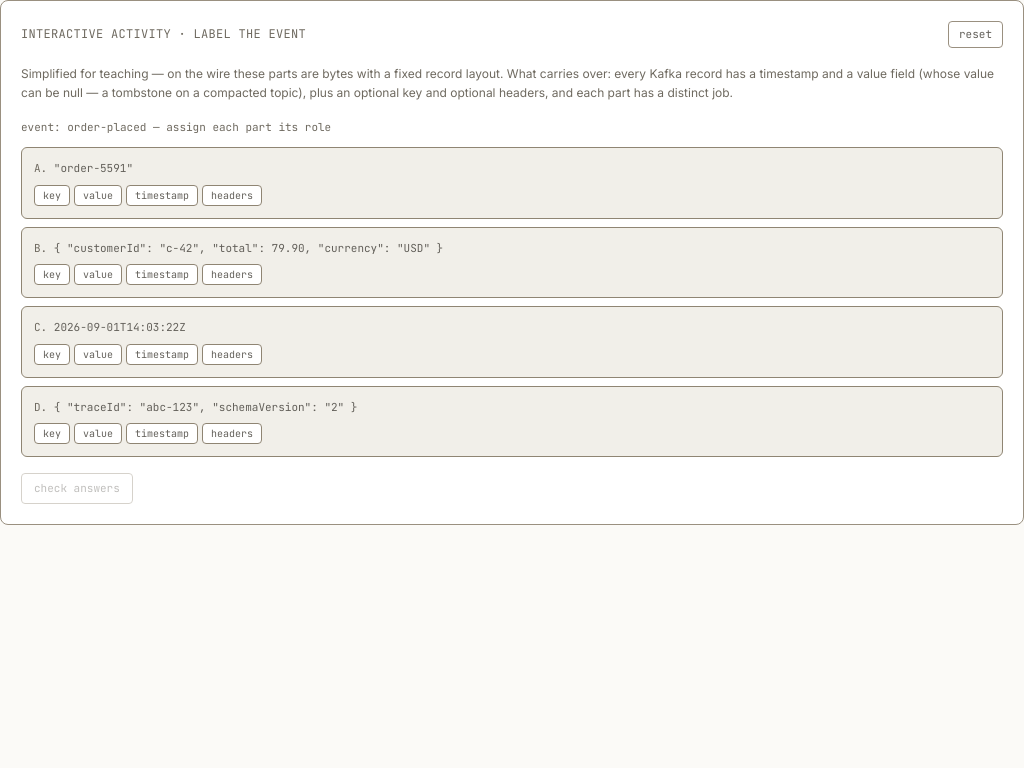
Test case: LabelTheEventDemo › scores a fully correct labelling
Click the button "key" below "\"order-5591\"".
click(52, 195)  # box [34, 184, 70, 206]
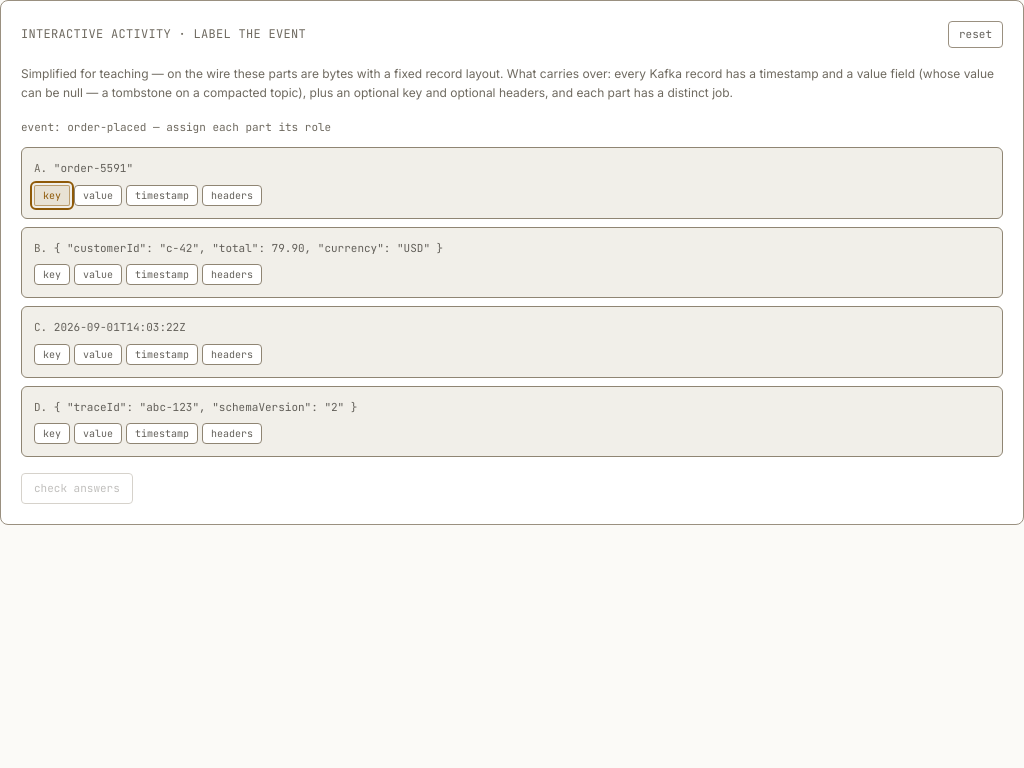
Click the 2nd button "value".
click(98, 274)  # box [74, 264, 122, 285]
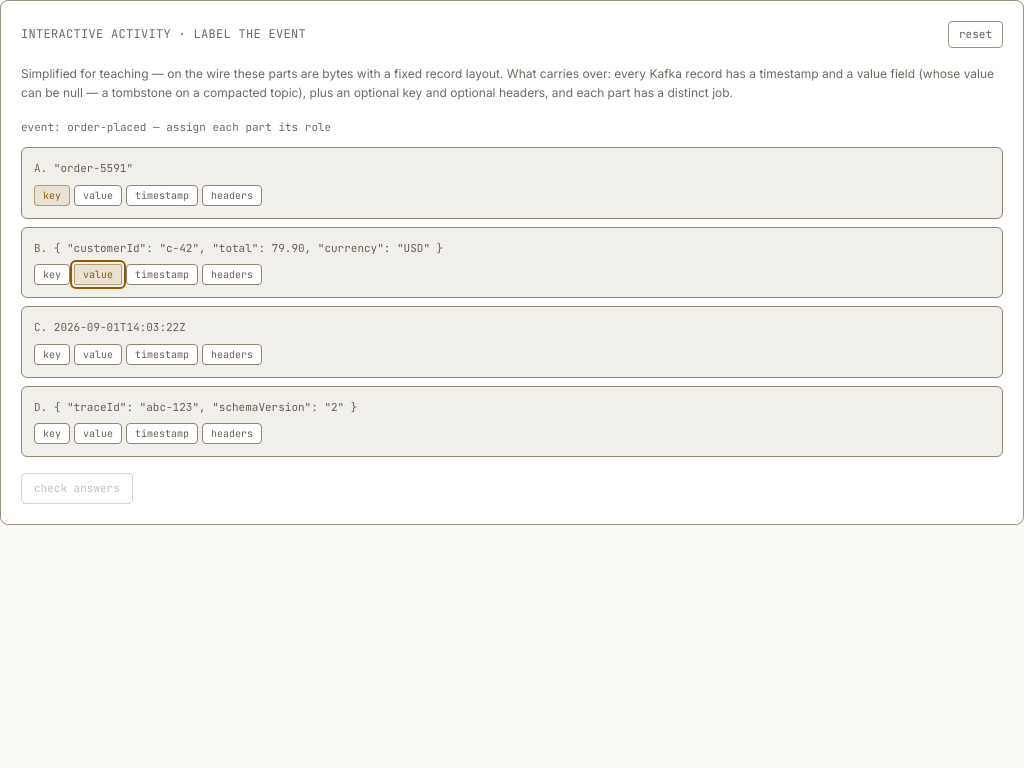
Click the button "timestamp" below "2026-09-01T14:03:22Z".
click(162, 354)  # box [126, 344, 198, 364]
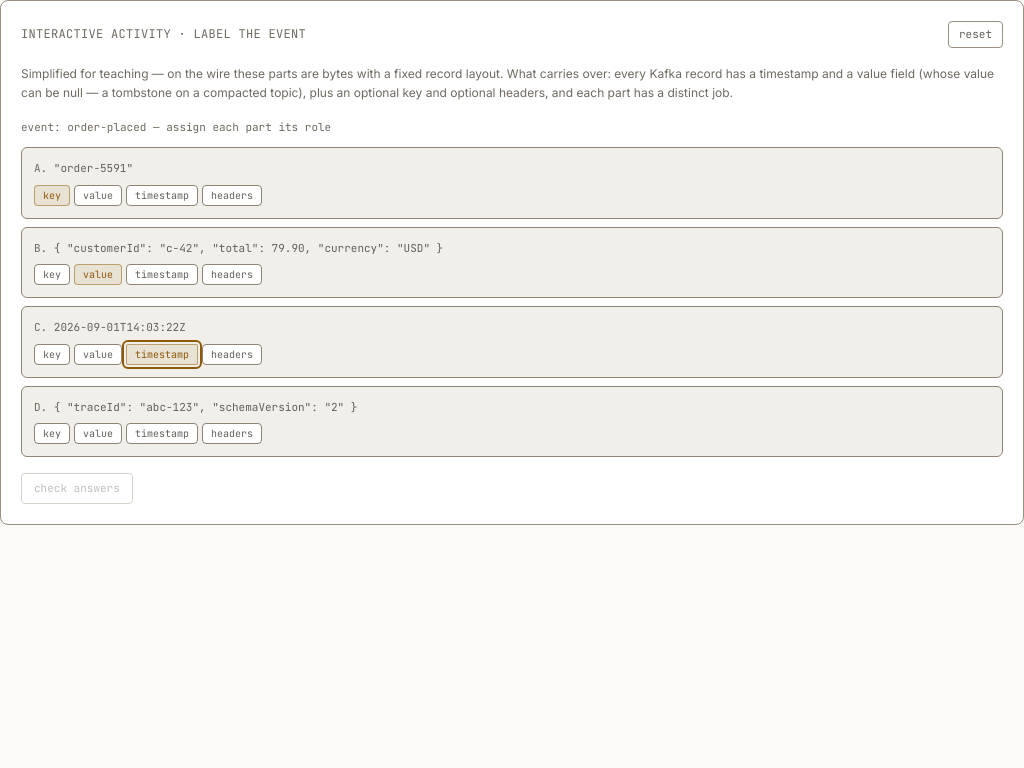
Click the 4th button "headers".
click(232, 434)  # box [202, 423, 262, 444]
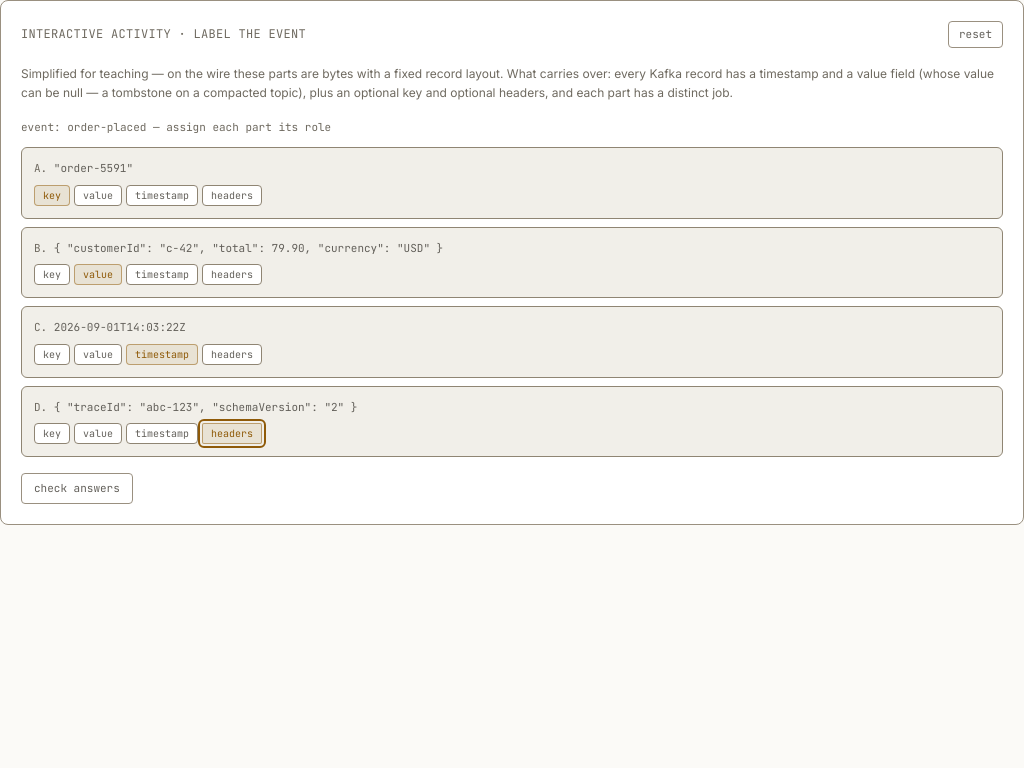
Click the button "check answers".
click(77, 488)  # box [21, 473, 133, 504]
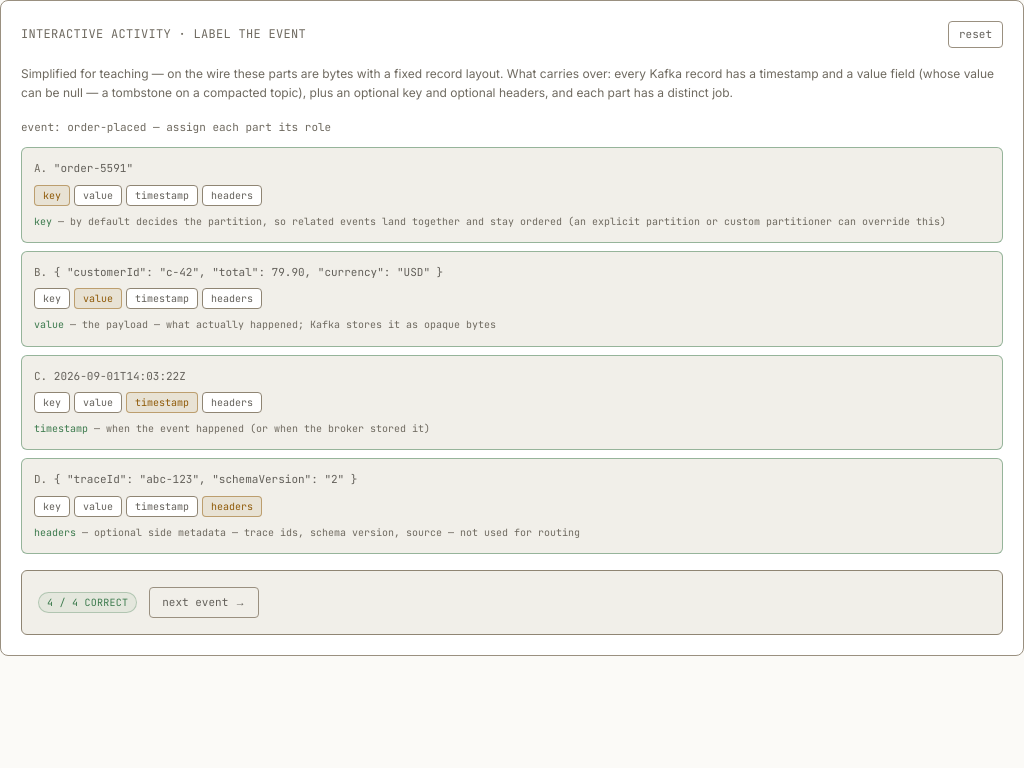
Check: the element with test id "wk-label-result" shows "4 / 4 correct", box [21, 570, 1003, 634]
